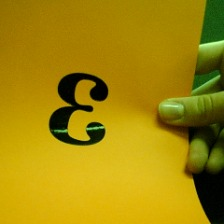orange3: (45, 72, 112, 151)
